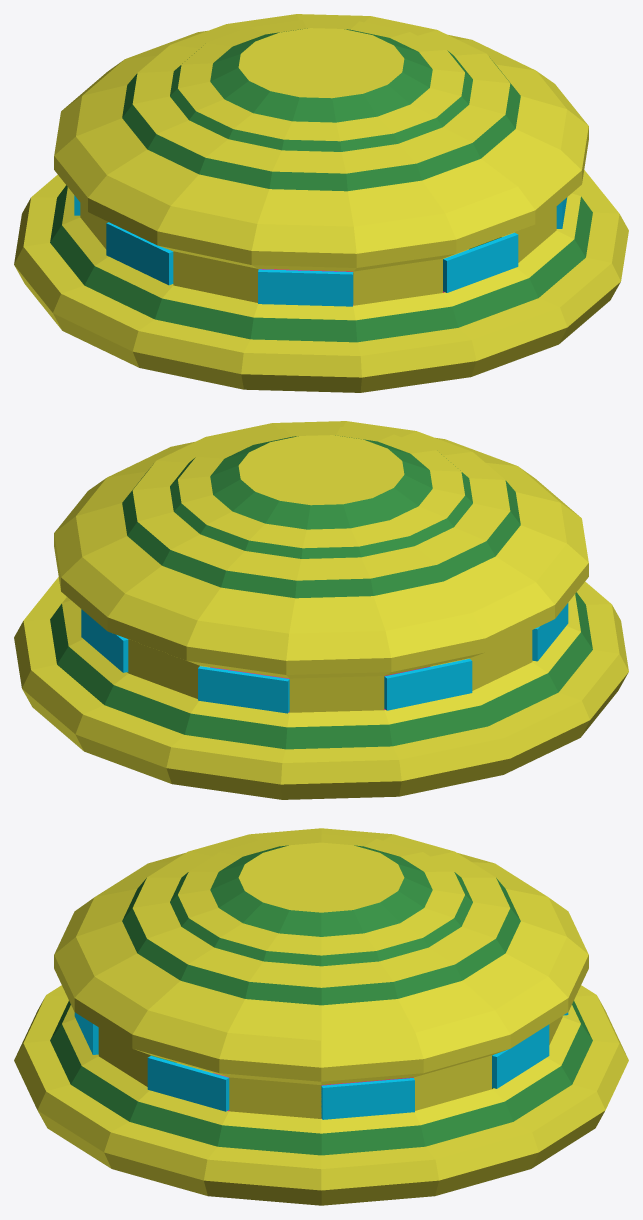
File: ufo.fbx
3 renders of one model, top to bottom at view 1: azimuth 30°, elevation 25°; view 2: azimuth 150°, elevation 25°; view 3: azimuth 270°, elevation 25°, orthographic.
Parts seen in each view (by area): view 1: UFO.Hull, UFO.Win.002, UFO.Win.003, UFO.Win.001; view 2: UFO.Hull, UFO.Win.003, UFO.Win.004, UFO.Win.002, UFO.Win.001; view 3: UFO.Hull, UFO.Win.001, UFO.Win.004, UFO.Win.002, UFO.Win.003.
Part boxes in pixels (x1,y1,x2,y2): UFO.Hull: (14, 14, 628, 392); UFO.Win.002: (258, 269, 353, 306); UFO.Win.003: (443, 232, 518, 292); UFO.Win.001: (106, 222, 173, 285); UFO.Hull: (14, 421, 628, 799); UFO.Win.003: (198, 666, 289, 713); UFO.Win.004: (384, 658, 472, 710); UFO.Win.002: (81, 609, 128, 672); UFO.Win.001: (532, 603, 568, 661); UFO.Hull: (14, 828, 628, 1205); UFO.Win.001: (321, 1078, 414, 1119); UFO.Win.004: (147, 1056, 229, 1111); UFO.Win.002: (492, 1024, 549, 1088); UFO.Win.003: (74, 1012, 568, 1054).
Size of the model in its own units: 227 by 101 by 227.
